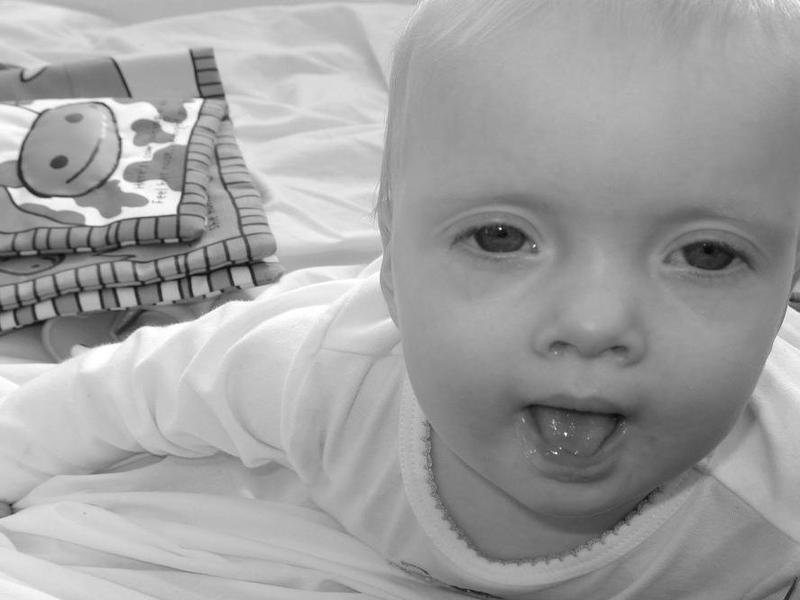person: (218, 3, 796, 600)
